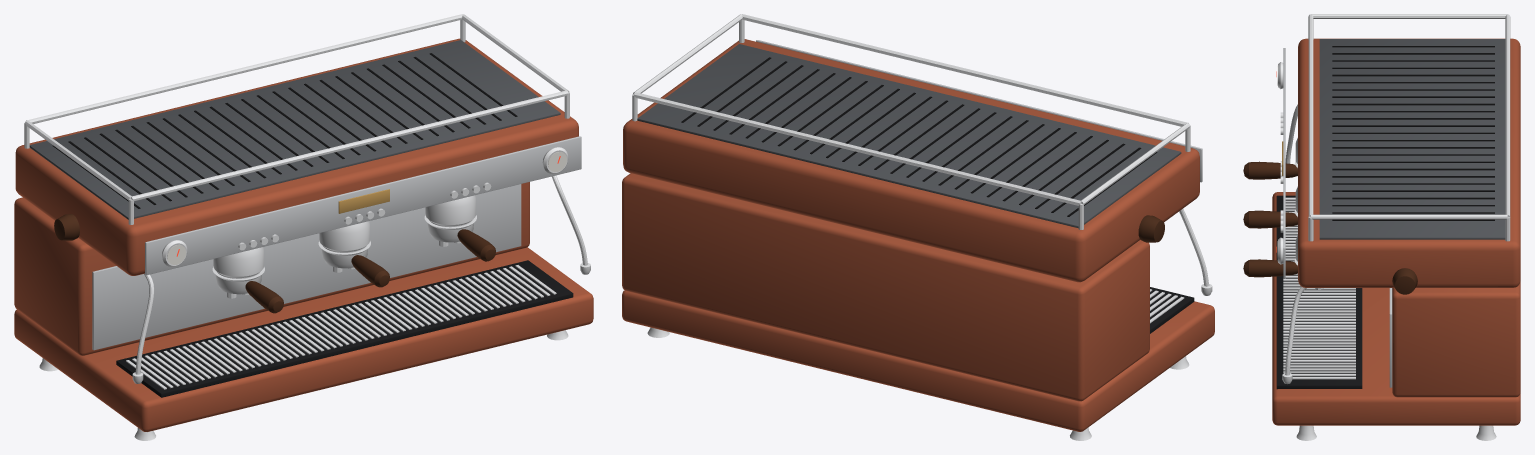
The model's file is espresso_terra.glb.
3 views of the same model, side by side, from view 1: azimuth 30°, elevation 25°; view 2: azimuth 150°, elevation 25°; view 3: azimuth 270°, elevation 25° (orthographic). The views are drawn at different scales.
Parts seen in each view (by area): view 1: terra_3g; view 2: terra_3g; view 3: terra_3g.
Boxes of the visible parts, bbox=[...] form: terra_3g: bbox=[14, 14, 593, 440]; terra_3g: bbox=[622, 14, 1214, 440]; terra_3g: bbox=[1243, 14, 1520, 440].
Size of the model in its own units: 1.23 by 0.5859 by 0.648.
